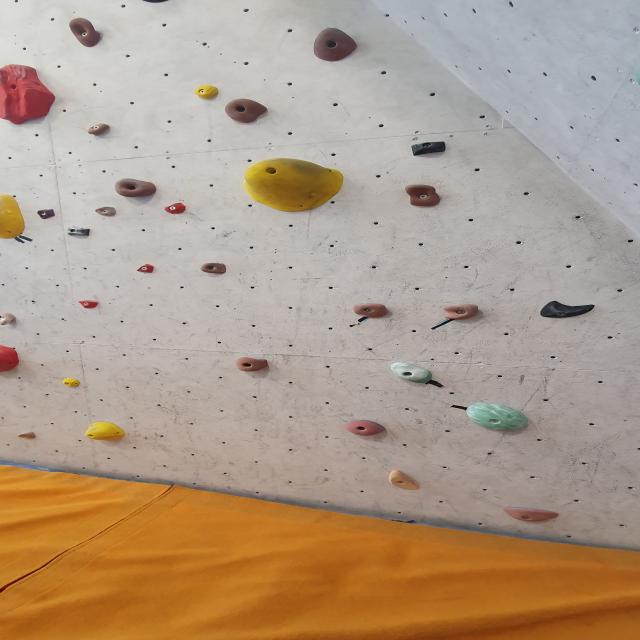Crimp: (497, 503, 563, 524), (189, 82, 227, 100), (84, 124, 118, 136), (31, 207, 58, 220), (96, 206, 121, 219), (75, 300, 101, 312), (164, 202, 188, 214), (134, 265, 156, 276), (62, 379, 82, 389), (18, 432, 40, 441)
Jug: (309, 27, 361, 64), (61, 17, 107, 48), (222, 97, 267, 125), (402, 182, 444, 210), (110, 176, 160, 197), (441, 302, 488, 322), (342, 419, 388, 437), (231, 355, 275, 373), (354, 300, 392, 318), (198, 261, 230, 275)
Pinch: (389, 359, 435, 384), (383, 468, 424, 492), (407, 138, 448, 158), (61, 224, 94, 239)
Sloper: (237, 158, 351, 218), (0, 64, 60, 126), (461, 400, 534, 434), (0, 191, 26, 242), (84, 420, 128, 443), (0, 342, 22, 378)
